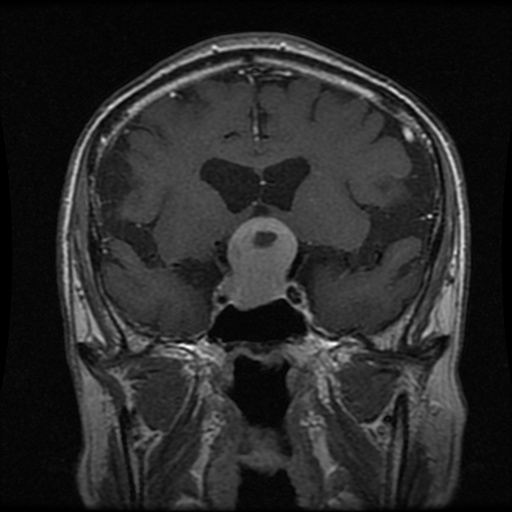pituitary: (213, 216, 299, 309)
